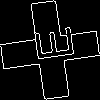E: (25, 25, 74, 64)
